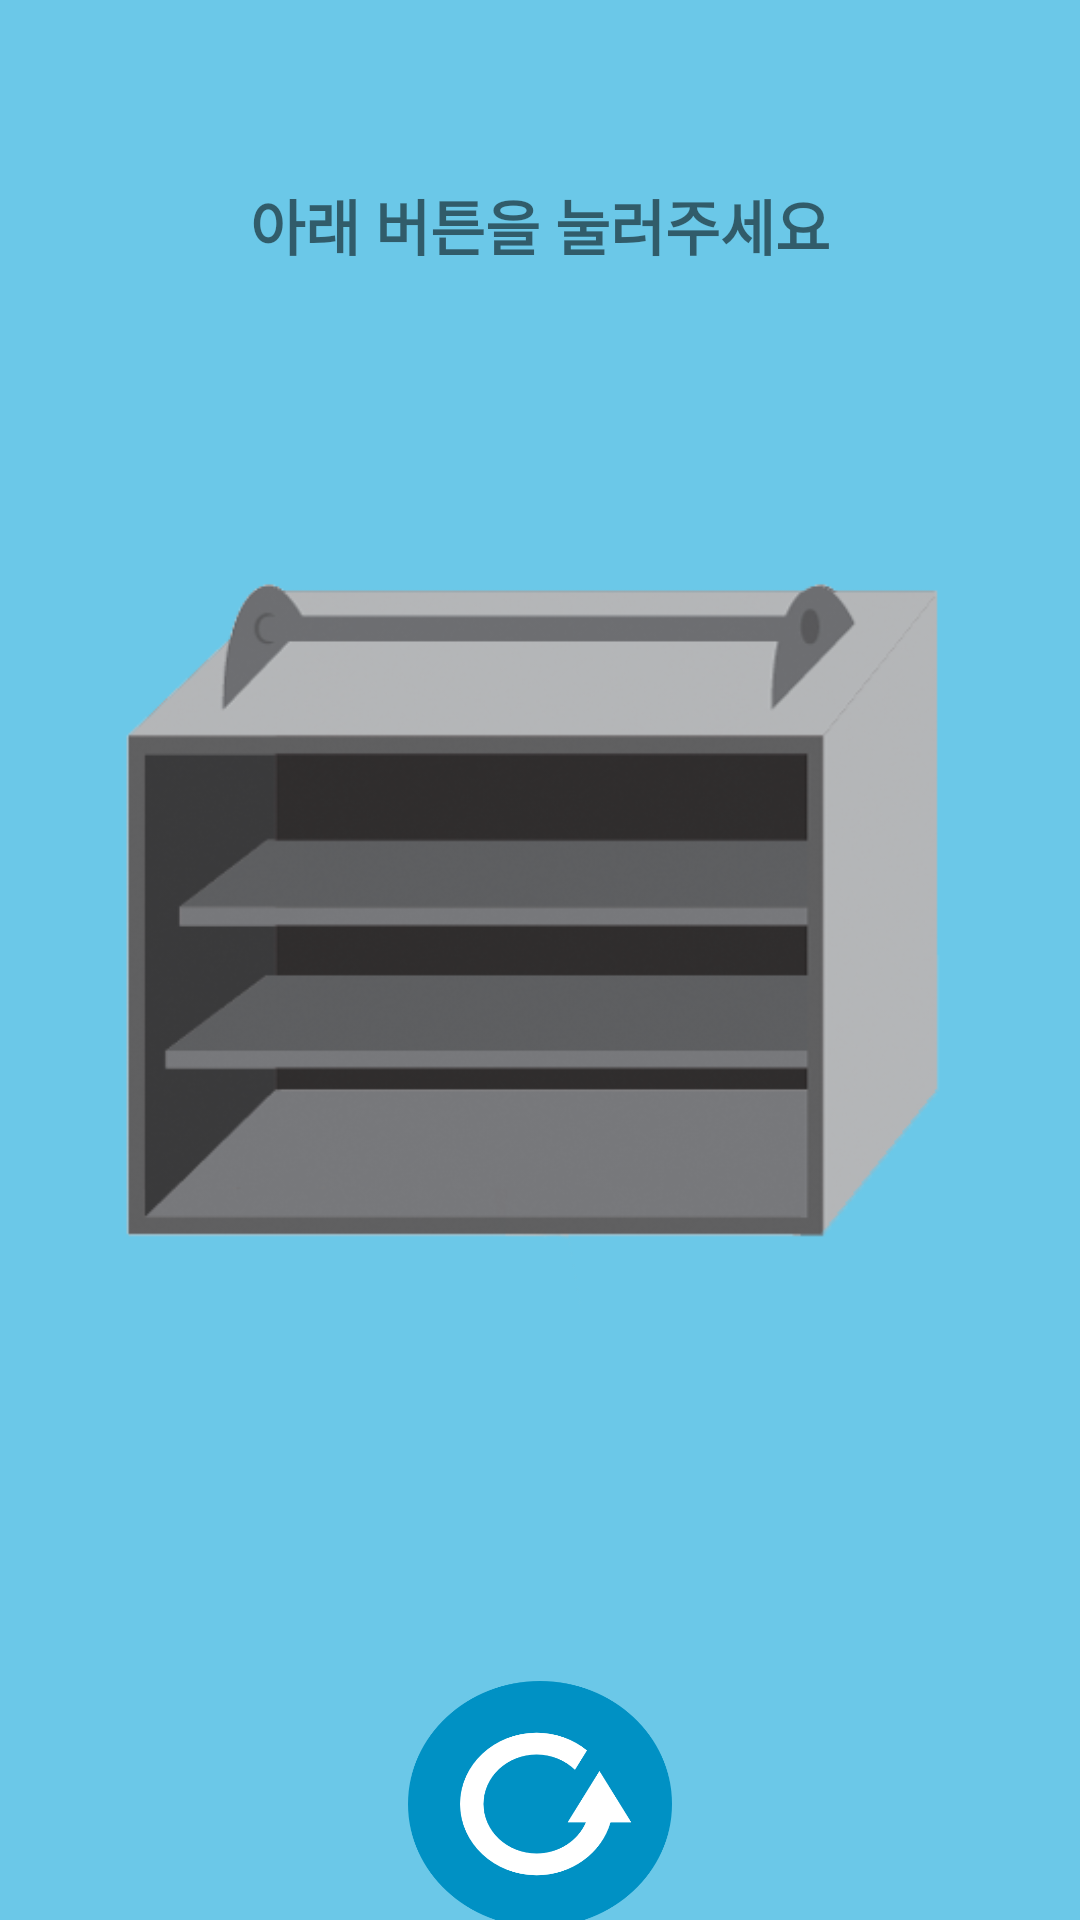

Where icons sit on this 1080 × 1920 app screen, as region(x1, y1, x2, y2):
reload: region(408, 1681, 672, 1920)
